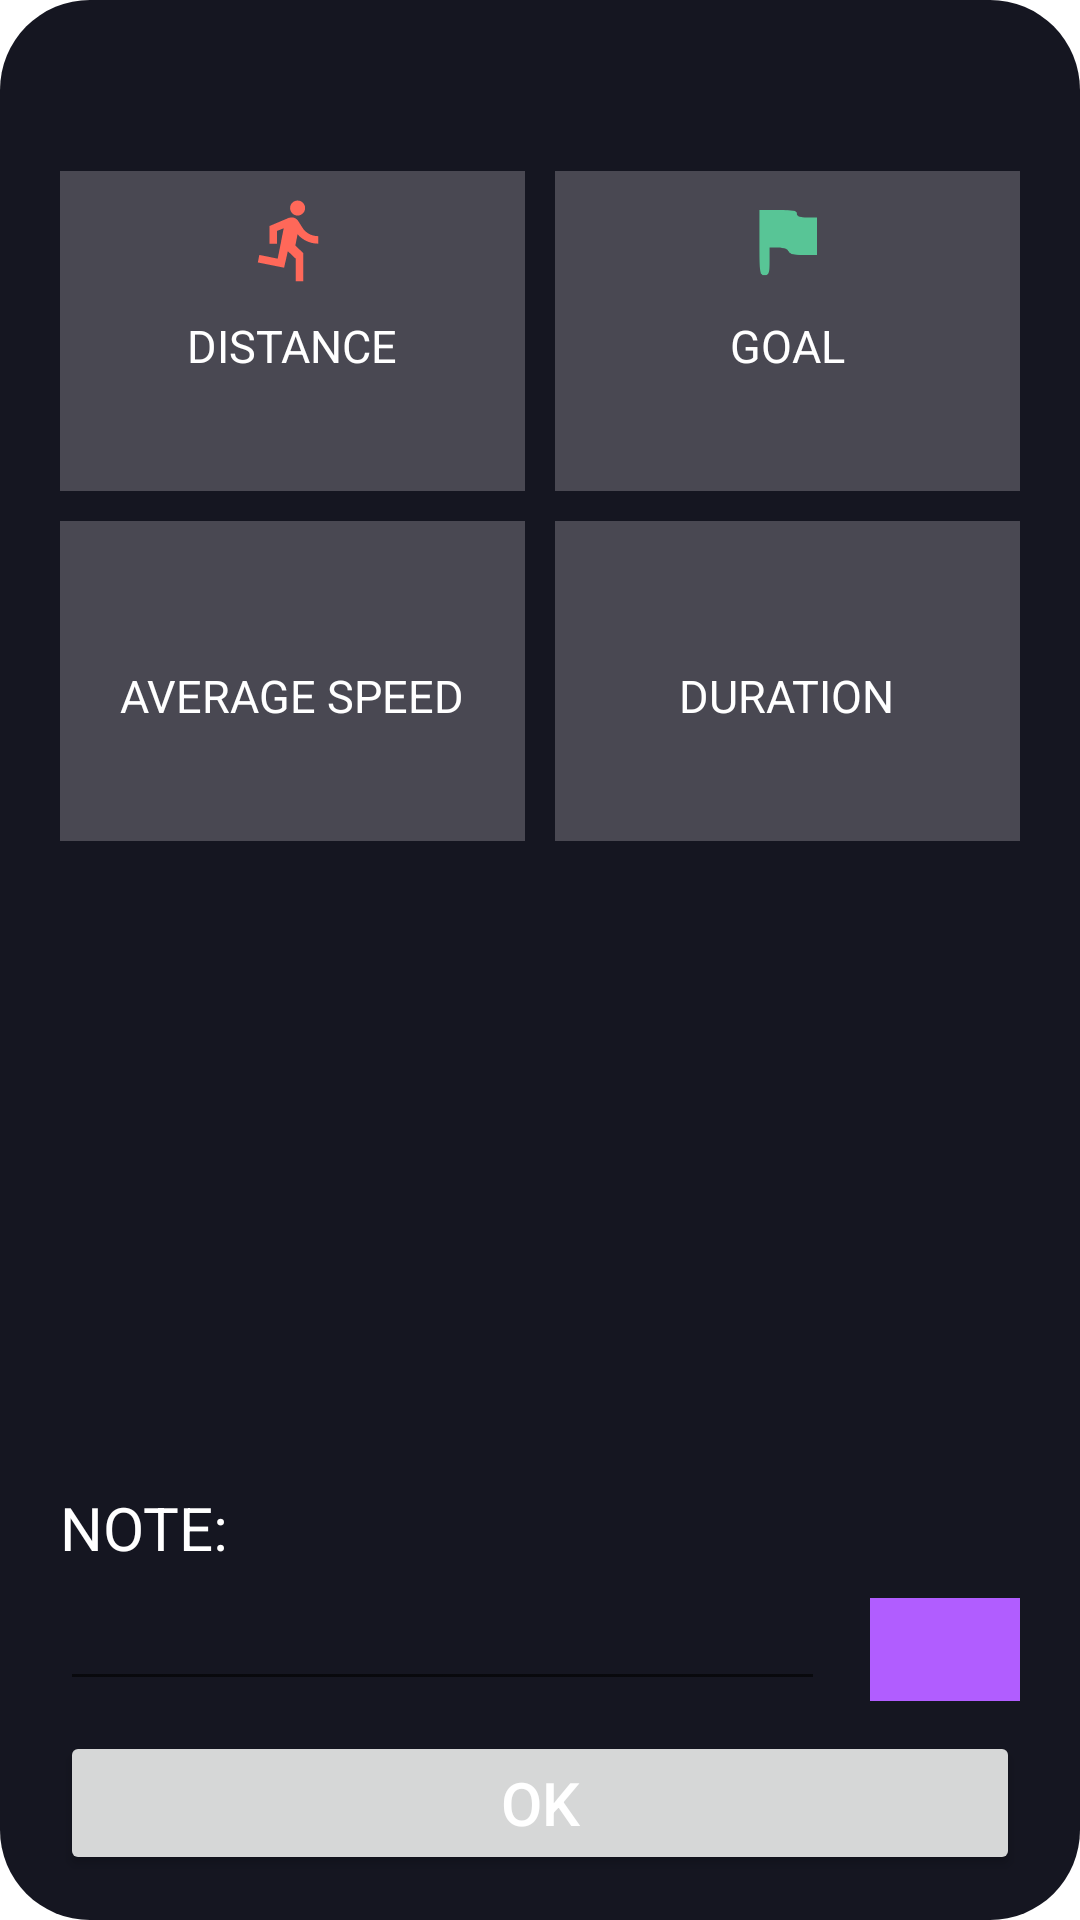

Icon click points for this 1080px×1920px phone screenshot, format (x,y):
flag: (788,242)
run: (288,241)
